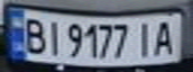1: (81, 20, 100, 58)
7: (112, 20, 133, 58), (96, 20, 115, 58)
9: (63, 19, 84, 58)
A: (151, 17, 181, 56)
B: (18, 15, 48, 55)
I: (133, 18, 157, 57), (42, 17, 63, 56)
